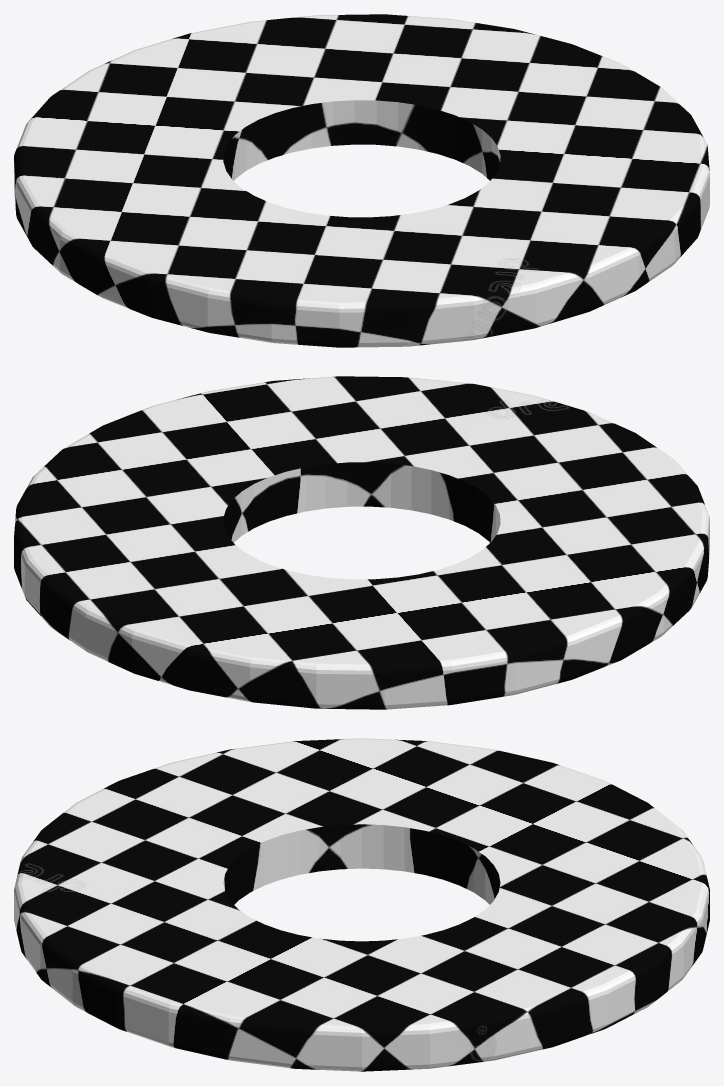
File: FinishPlatform02Fracture.fbx
The picture shows the model from 3 angles, top to bottom: view 1: azimuth 30°, elevation 25°; view 2: azimuth 150°, elevation 25°; view 3: azimuth 270°, elevation 25°; orthographic projection.
Visible parts, largest first — view 1: Cylinder_fracturepart1, Cylinder_fracturepart4, Cylinder_fracturepart6, Cylinder_fracturepart5, Cylinder_fracturepart3, Cylinder_fracturepart2; view 2: Cylinder_fracturepart1, Cylinder_fracturepart4, Cylinder_fracturepart3, Cylinder_fracturepart5, Cylinder_fracturepart2, Cylinder_fracturepart6; view 3: Cylinder_fracturepart5, Cylinder_fracturepart4, Cylinder_fracturepart1, Cylinder_fracturepart6, Cylinder_fracturepart3, Cylinder_fracturepart2.
Part boxes in pixels (x1,y1,x2,y2): Cylinder_fracturepart1: (356, 177, 702, 347); Cylinder_fracturepart4: (20, 179, 367, 347); Cylinder_fracturepart6: (258, 14, 577, 168); Cylinder_fracturepart5: (474, 46, 709, 227); Cylinder_fracturepart3: (14, 69, 258, 224); Cylinder_fracturepart2: (92, 15, 342, 158); Cylinder_fracturepart1: (252, 376, 661, 532); Cylinder_fracturepart4: (470, 451, 709, 673); Cylinder_fracturepart3: (309, 558, 589, 709); Cylinder_fracturepart5: (19, 384, 338, 540); Cylinder_fracturepart2: (70, 576, 335, 707); Cylinder_fracturepart6: (14, 495, 319, 643); Cylinder_fracturepart5: (130, 922, 489, 1071); Cylinder_fracturepart4: (68, 738, 472, 899); Cylinder_fracturepart1: (14, 809, 258, 1033); Cylinder_fracturepart6: (373, 870, 672, 1061); Cylinder_fracturepart3: (384, 747, 683, 904); Cylinder_fracturepart2: (492, 830, 709, 987).
Bounding box in the file's own units: 3.99 × 0.2796 × 3.99.
1 material, 1 textured.
